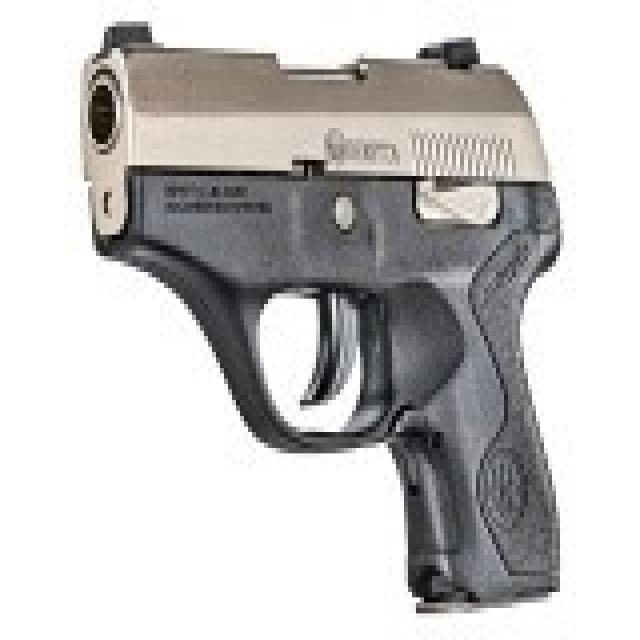Gun: (63, 14, 592, 617)
